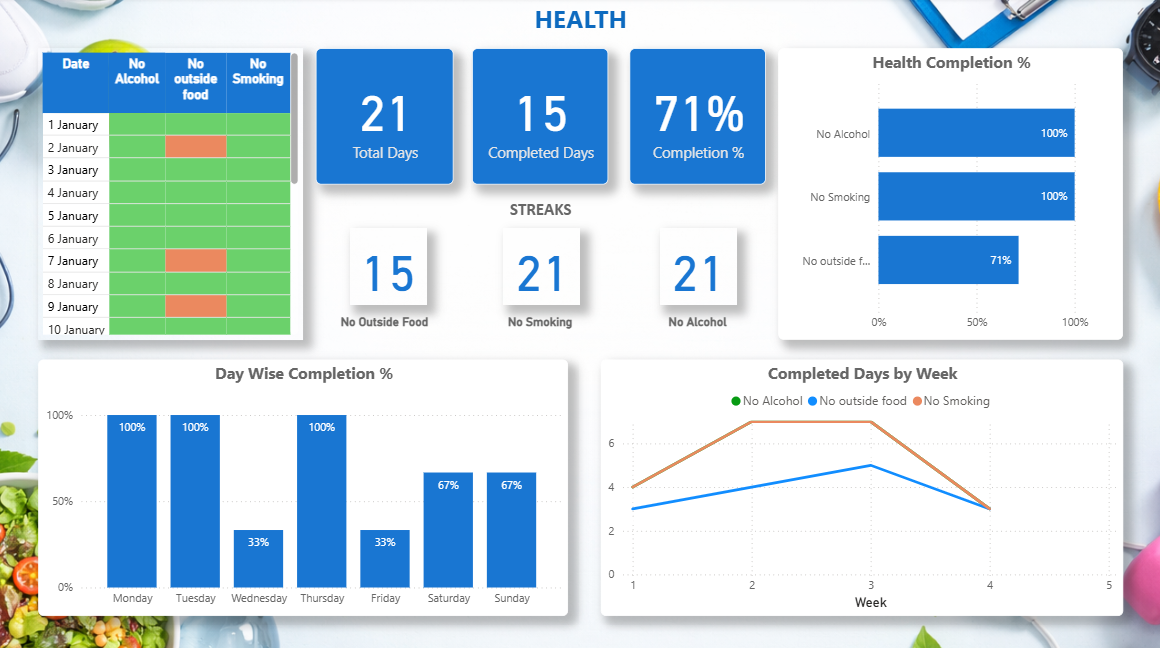

The page's visual inventory and layout, read from the dashboard file:
{"tool":"powerbi","page":{"name":"Health","canvas":[1280,720],"ordinal":0},"visuals":[{"type":"pivotTable","fields":{"Values":["Sum(JAN.Is_completed)"],"Columns":["JAN.Habit"],"Rows":["DateTable.Date"]},"box":[45.3,56.3,290.9,319.7],"z":0},{"type":"card","fields":{"Values":["DateTable.Total Days"]},"box":[349.9,56.3,150.9,149.6],"z":1000},{"type":"card","fields":{"Values":["DateTable.Completed Days"]},"box":[521.4,56.3,149.6,149.6],"z":2000},{"type":"card","fields":{"Values":["DateTable.Health Completion %"]},"box":[694.3,56.3,149.6,149.6],"z":3000},{"type":"clusteredBarChart","title":"Health Completion % ","fields":{"Y":["DateTable.Health Completion %"],"Category":["Habit Category.Habit"]},"box":[857.6,56.3,378.7,319.7],"z":4000},{"type":"clusteredColumnChart","title":"Day Wise Completion % ","fields":{"Y":["DateTable.Health Completion % (Day Wise)"],"Category":["DateTable.DayName"]},"box":[45.3,397.9,581.8,281.3],"z":5000},{"type":"card","fields":{"Values":["DateTable.Health Current Streak"]},"box":[387,253.9,85.1,85.1],"z":6000},{"type":"card","fields":{"Values":["DateTable.Health Current Streak"]},"box":[727.3,253.9,85.1,85.1],"z":7000},{"type":"card","fields":{"Values":["DateTable.Health Current Streak"]},"box":[555.7,253.9,85.1,85.1],"z":8000},{"type":"lineChart","title":"Completed Days by Week","fields":{"Category":["DateTable.Week"],"Y":["DateTable.Health Completed Days (All)"],"Series":["Habit Category.Habit"]},"box":[662.8,397.9,573.6,281.3],"z":9000},{"type":"textbox","box":[349.9,216.8,494,37],"z":10000},{"type":"textbox","box":[349.9,341.7,150.9,37],"z":11000},{"type":"textbox","box":[521.4,341.7,149.6,37],"z":12000},{"type":"textbox","box":[694.3,341.7,149.6,37],"z":13000},{"type":"textbox","box":[45.3,0,1191.1,56.3],"z":14000}]}

Visuals, with their boxes in screenshot pixels (x1, y1, x2, y2), scaled from the page's 1280x720 canvas onto the 1160x648 screenshot:
pivotTable - Sum(JAN.Is_completed) x JAN.Habit: bbox=[41, 51, 305, 338]
card - DateTable.Total Days: bbox=[317, 51, 454, 185]
card - DateTable.Completed Days: bbox=[473, 51, 608, 185]
card - DateTable.Health Completion %: bbox=[629, 51, 765, 185]
"Health Completion % " clusteredBarChart: bbox=[777, 51, 1120, 338]
"Day Wise Completion % " clusteredColumnChart: bbox=[41, 358, 568, 611]
card - DateTable.Health Current Streak: bbox=[351, 229, 428, 305]
card - DateTable.Health Current Streak: bbox=[659, 229, 736, 305]
card - DateTable.Health Current Streak: bbox=[504, 229, 581, 305]
"Completed Days by Week" lineChart: bbox=[601, 358, 1120, 611]
textbox: bbox=[317, 195, 765, 228]
textbox: bbox=[317, 308, 454, 341]
textbox: bbox=[473, 308, 608, 341]
textbox: bbox=[629, 308, 765, 341]
textbox: bbox=[41, 0, 1120, 51]
